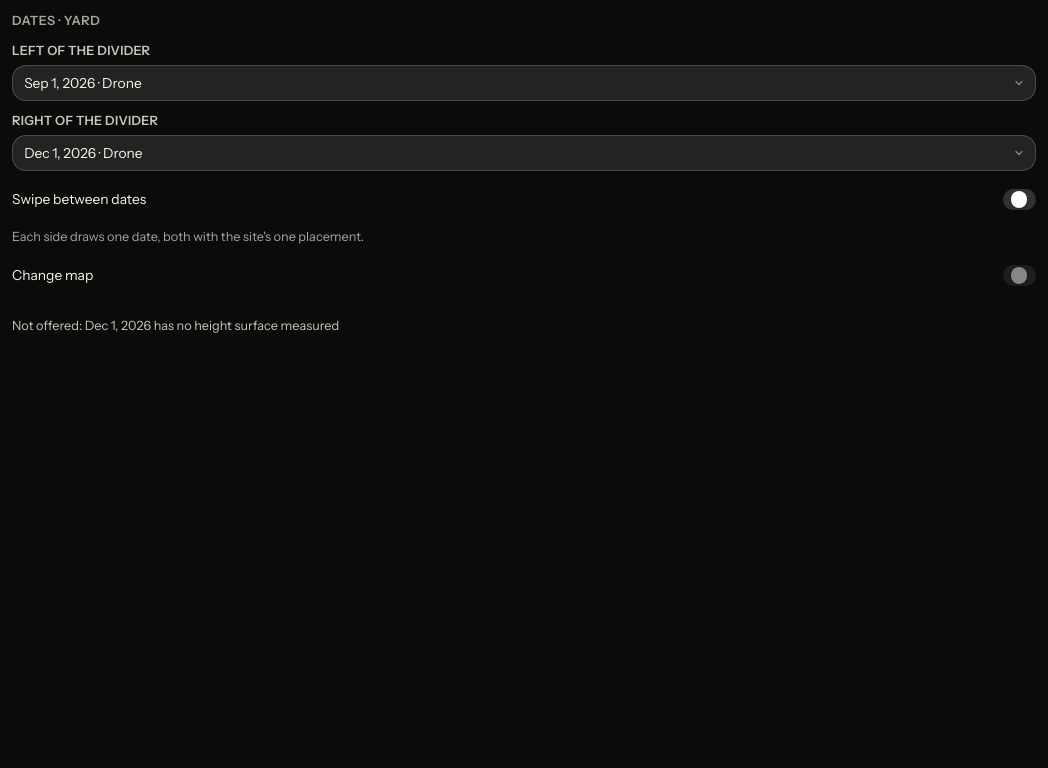
Test case: the offer in Compare › Dates › follows a date chosen while it is on, and ends with the reason if the new date has none
Check: the switch named "Change map" in the row of "Change map" is disabled, box [1003, 265, 1036, 286]
Select "Jun 1, 2026 · Phone video" in the dropdown labelled "Right of the divider" at (524, 153), box [12, 135, 1036, 171]
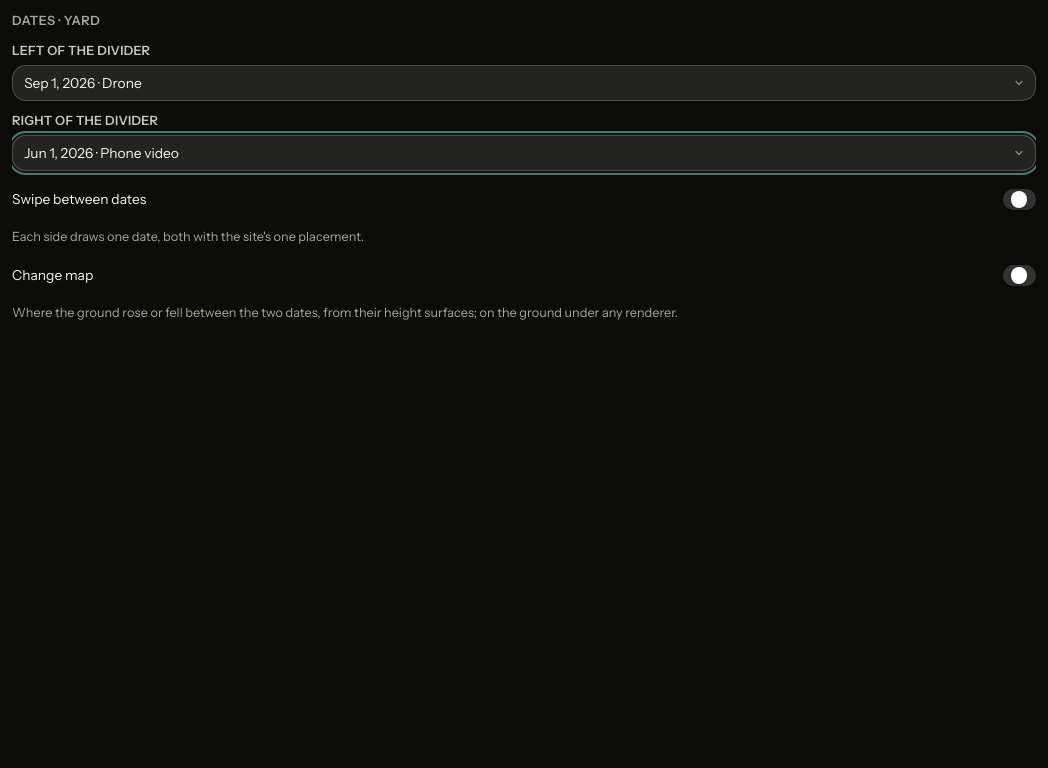
Check: the dropdown labelled "Left of the divider" shows "Sep 1, 2026 · Drone", box [12, 65, 1036, 100]
Click the switch named "Change map" in the row of "Change map" at (1019, 276), box [1003, 265, 1036, 286]
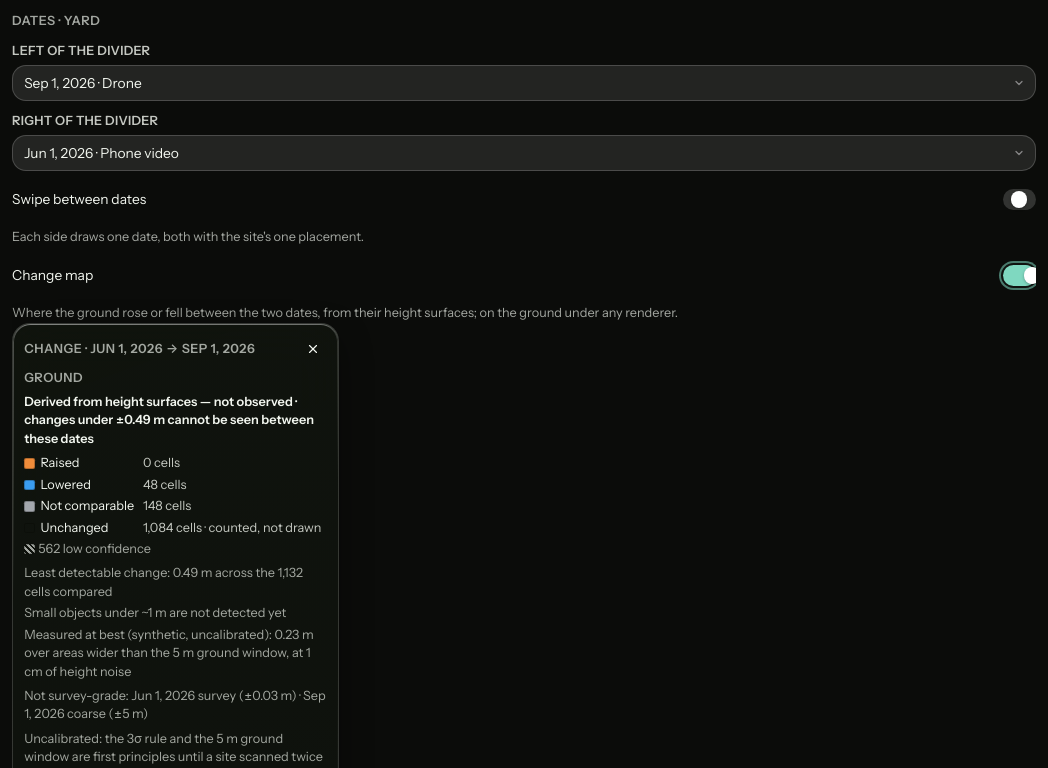
Select "Mar 1, 2026 · Drone" in the dropdown labelled "Right of the divider" at (524, 153), box [12, 135, 1036, 171]
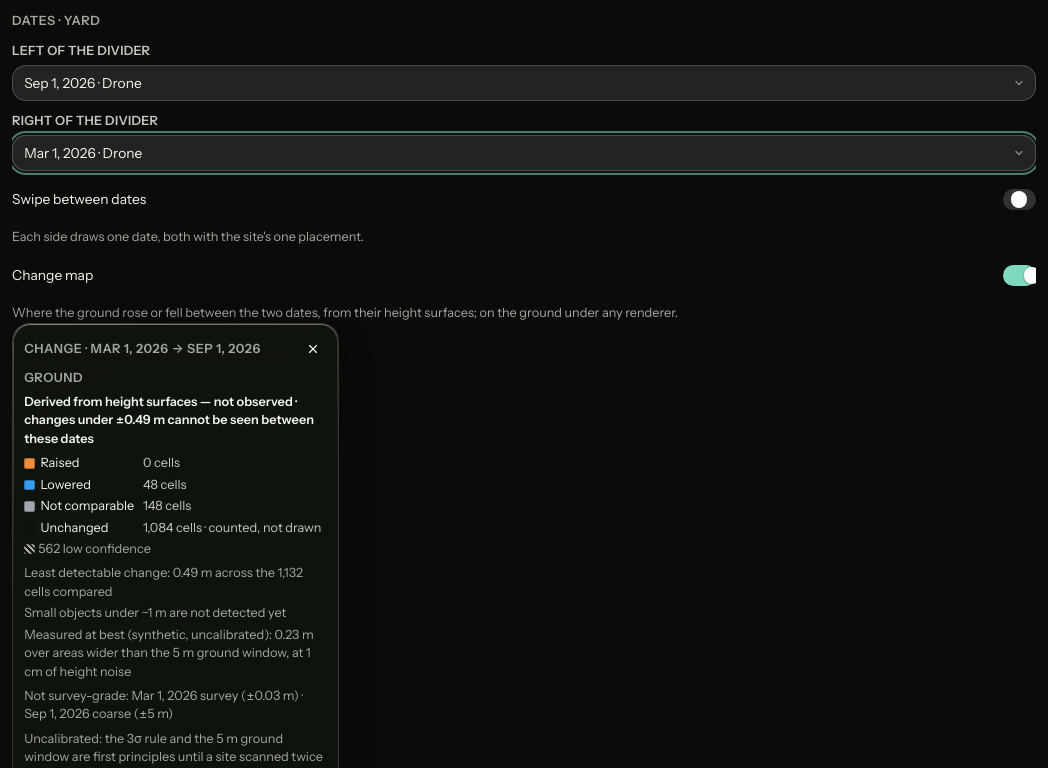
Select "Dec 1, 2026 · Drone" in the dropdown labelled "Left of the divider" at (524, 83), box [12, 65, 1036, 100]
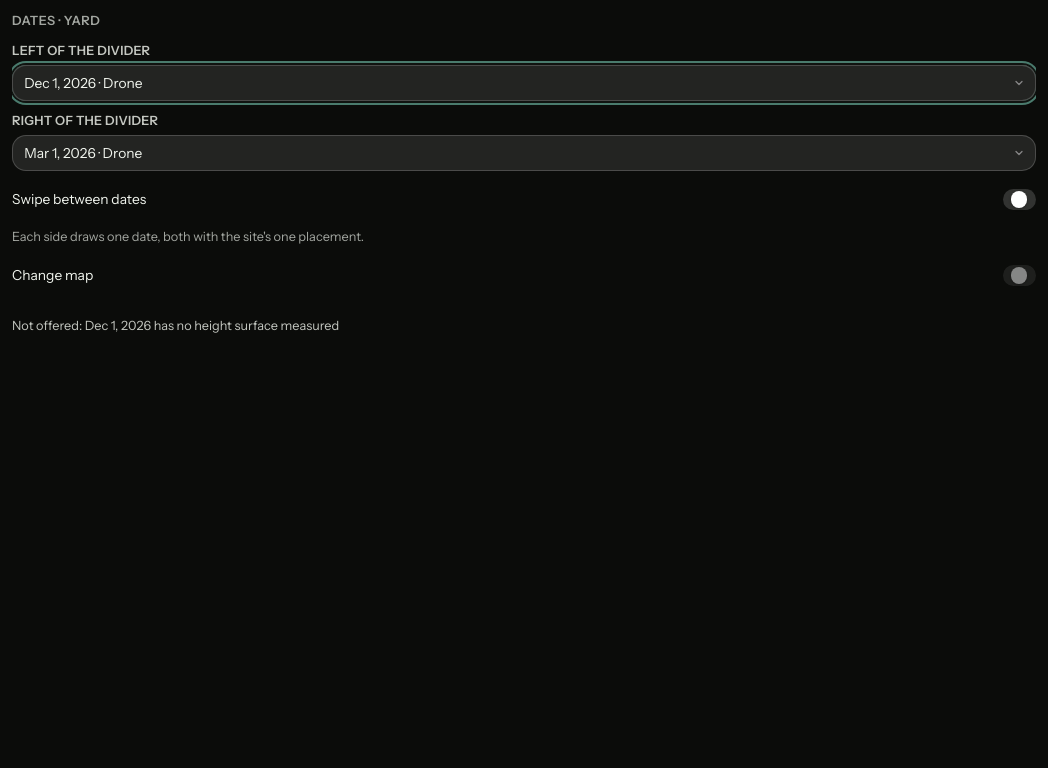
Check: the text with test id "compare-change-not-offered" reads "Not offered: Dec 1, 2026 has no height surface measured", box [12, 318, 339, 333]
